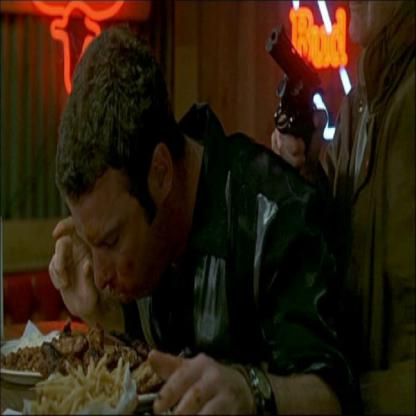Guns: (264, 22, 324, 186)
